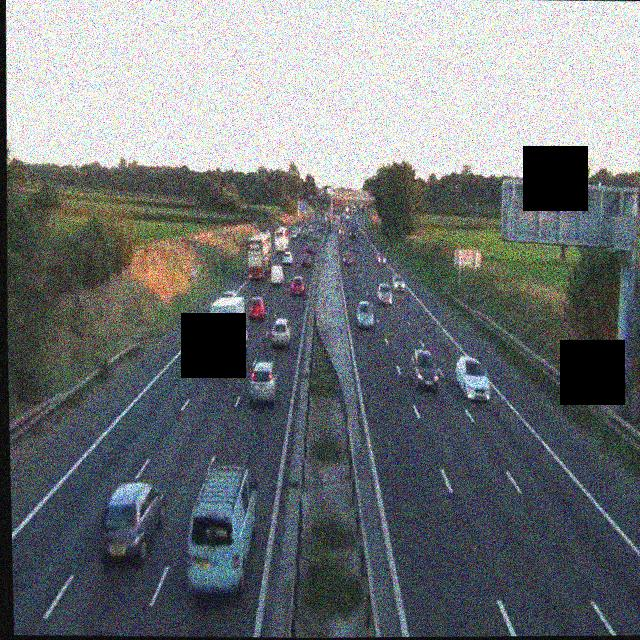bus: (274, 223, 287, 250)
car: (183, 464, 259, 598), (99, 481, 166, 562), (454, 355, 491, 402), (248, 359, 279, 402), (409, 347, 439, 391), (191, 319, 214, 351), (269, 316, 291, 347), (356, 299, 374, 327), (247, 296, 265, 320), (269, 263, 283, 284), (377, 284, 391, 304), (292, 276, 304, 296), (393, 273, 405, 291), (342, 251, 352, 267), (300, 251, 310, 267), (281, 250, 292, 264), (376, 252, 386, 264), (305, 241, 314, 253), (339, 229, 345, 238)
truck: (208, 292, 249, 370), (246, 230, 272, 279)
